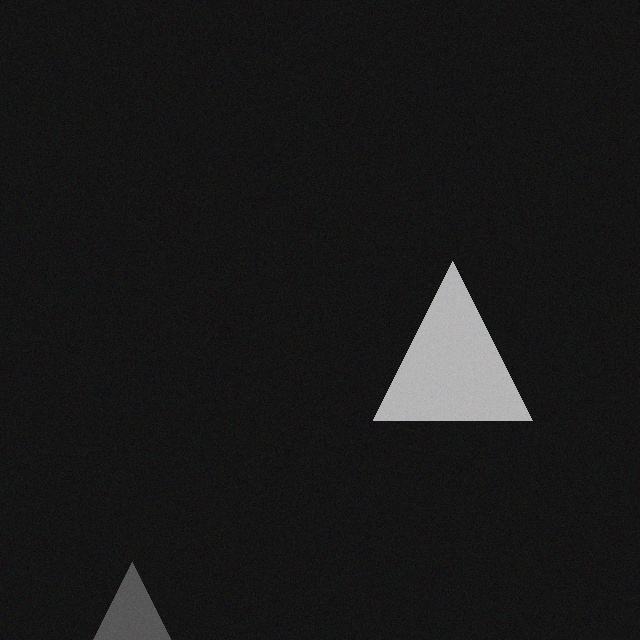triangle: (360, 250, 519, 409), (79, 551, 159, 631)
